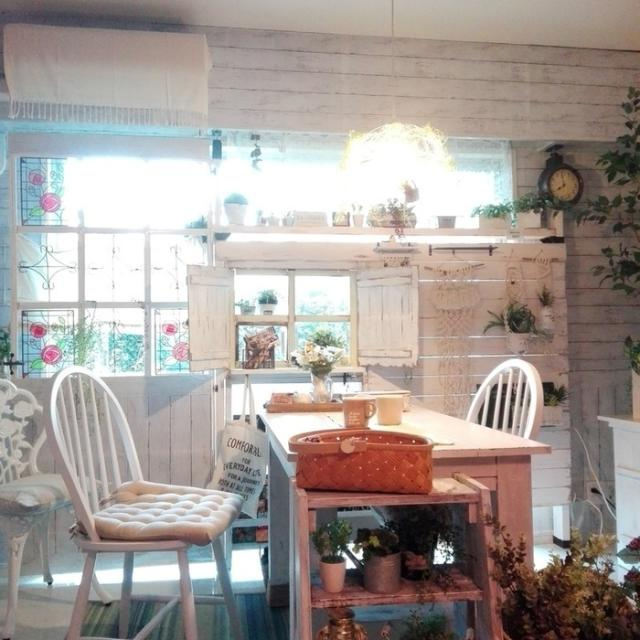white chair: (49, 379, 248, 640)
